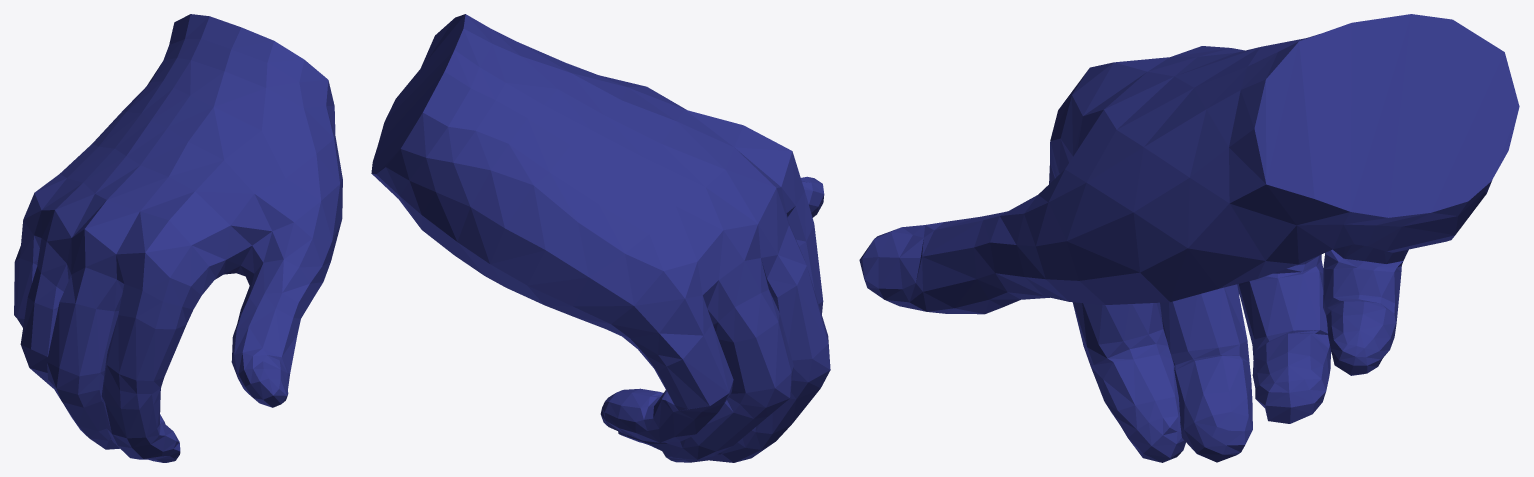
3 views of the same model, side by side, from view 1: azimuth 30°, elevation 25°; view 2: azimuth 150°, elevation 25°; view 3: azimuth 270°, elevation 25° (orthographic). The views are drawn at different scales.
Bounding box in the file's own units: 0.1153 × 0.1262 × 0.1396.
